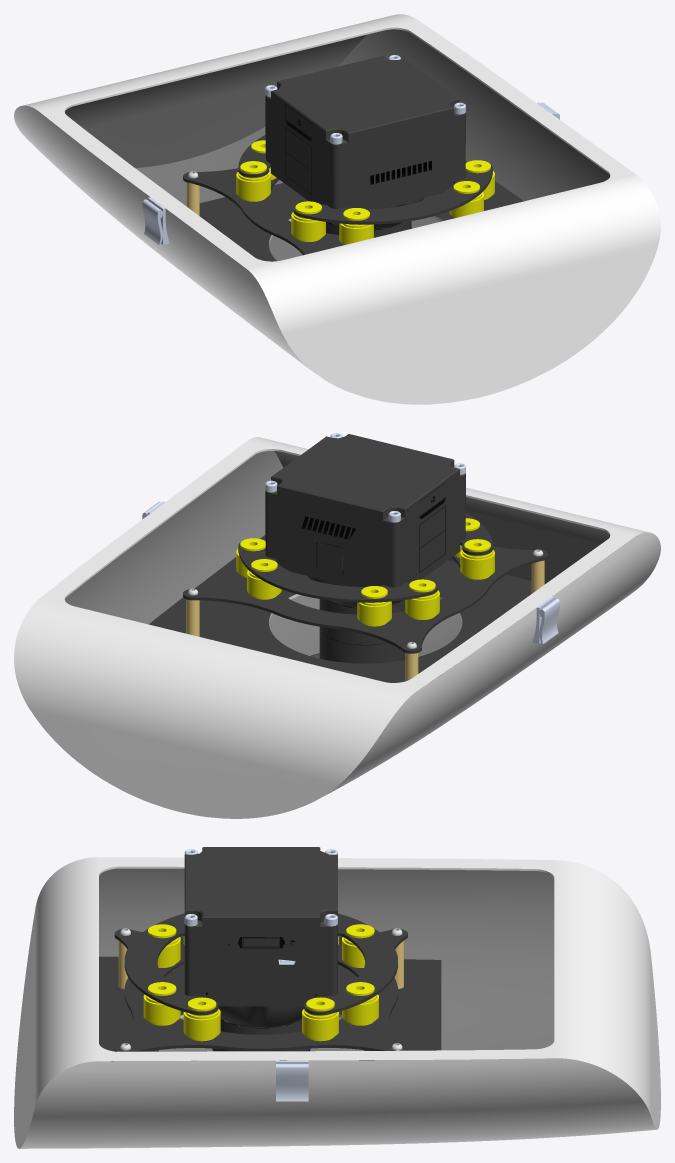
File: RB_R6P_web.glb
3 renders of one model, top to bottom at view 1: azimuth 30°, elevation 25°; view 2: azimuth 150°, elevation 25°; view 3: azimuth 270°, elevation 25°, orthographic. The views are drawn at different scales.
Parts seen in each view (by area): view 1: Payload - R6P-1, R6P-2; view 2: Payload - R6P-1, R6P-2; view 3: Payload - R6P-1, R6P-2.
Part boxes in pixels (box(x1,y1,x2,y2)): Payload - R6P-1: box(14, 14, 660, 404); R6P-2: box(265, 55, 465, 236); Payload - R6P-1: box(14, 437, 660, 818); R6P-2: box(265, 433, 465, 663); Payload - R6P-1: box(14, 857, 660, 1148); R6P-2: box(184, 847, 337, 1060).
Bounding box in the file's own units: 0.2281 × 0.12 × 0.2956.
